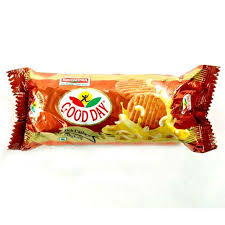gooday-medium: (18, 73, 201, 147)
